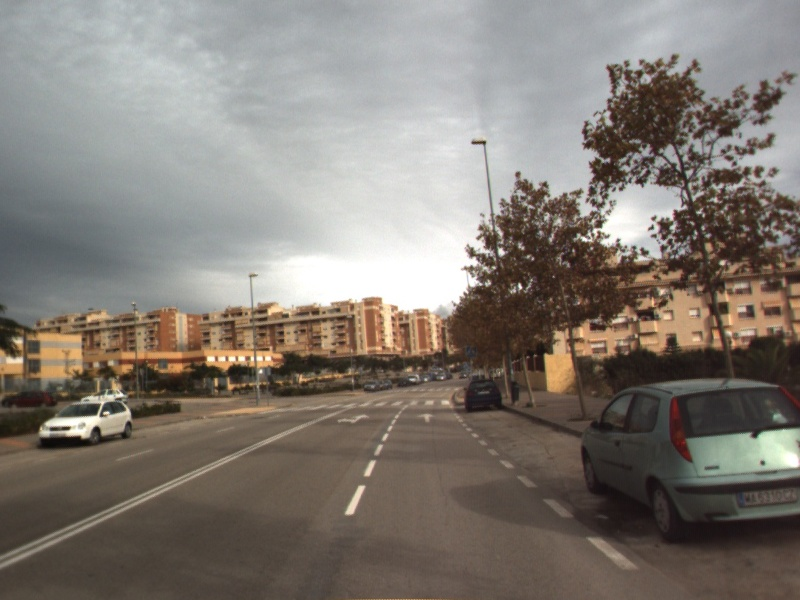STRAIGHT: (415, 411, 438, 424)
STRAIGHT_LEFT: (335, 412, 372, 425)
